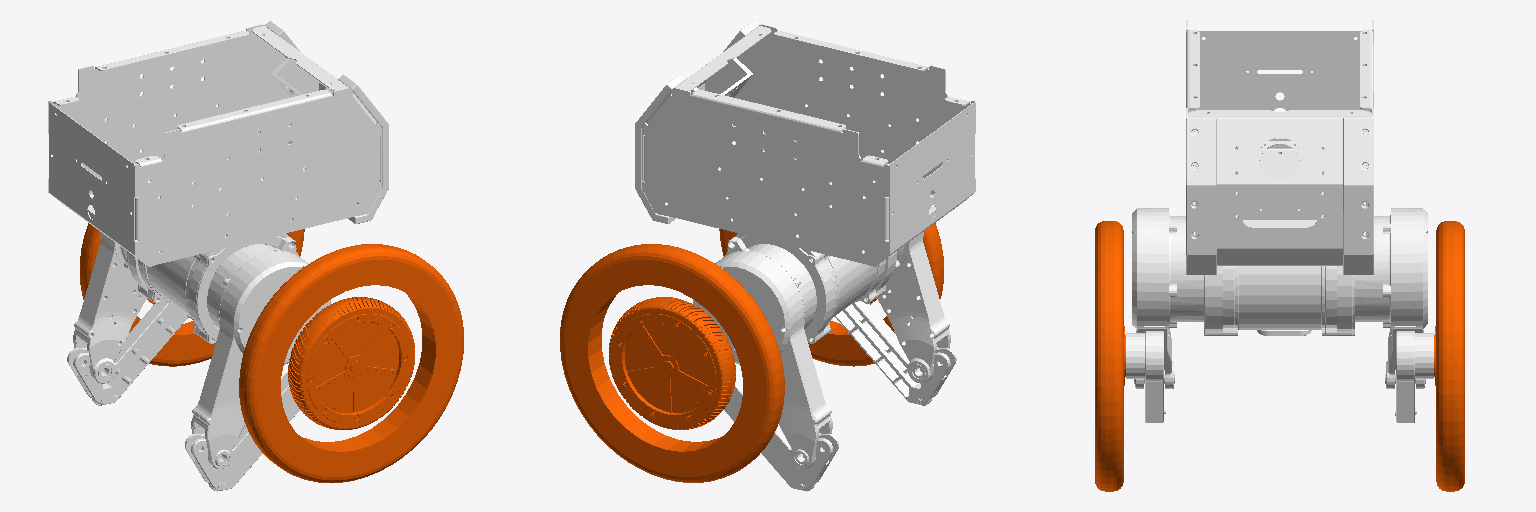
URDF robot description (diablo_plus_pro):
<?xml version="1.0" encoding="utf-8"?>
<!-- This URDF was automatically created by SolidWorks to URDF Exporter! Originally created by Stephen Brawner (brawner@gmail.com) 
     Commit Version: 1.6.0-4-g7f85cfe  Build Version: 1.6.7995.38578
     For more information, please see http://wiki.ros.org/sw_urdf_exporter -->
<robot
  name="diablo_plus_pro">
  <material name="black">
      <color rgba="0.0 0.0 0.0 1.0"/>
  </material>
  <material name="blue">
      <color rgba="0.0 0.0 0.8 1.0"/>
  </material>
  <material name="green">
      <color rgba="0.0 0.8 0.0 1.0"/>
  </material>
  <material name="grey">
      <color rgba="0.2 0.2 0.2 1.0"/>
  </material>
  <material name="silver">
      <color rgba="0.9137254901960784 0.9137254901960784 0.8470588235294118 1.0"/>
  </material>
  <material name="orange">
      <color rgba="1.0 0.4235294117647059 0.0392156862745098 1.0"/>
  </material>
  <material name="brown">
      <color rgba="0.8705882352941177 0.8117647058823529 0.7647058823529411 1.0"/>
  </material>
  <material name="red">
      <color rgba="0.8 0.0 0.0 1.0"/>
  </material>
  <material name="white">
      <color rgba="1.0 1.0 1.0 1.0"/>
  </material>
  <link
    name="base_link">
    <inertial>
      <origin
        xyz="0.02817 -0.0049865 0.16853"
        rpy="0 0 0" />
      <mass
        value="11.4726" />
      <inertia
        ixx="0.8371974"
        ixy="-0.06254957"
        ixz="-0.01618499"
        iyy="0.8708397"
        iyz="0.003006719"
        izz="0.3425067" />
    </inertial>
    <visual>
      <origin
        xyz="0 0 0"
        rpy="0 0 0" />
      <geometry>
        <mesh
          filename="../meshes/base_link.STL" />
      </geometry>
      <material
        name="">
        <color
          rgba="1 1 1 1" />
      </material>
    </visual>
    <collision>
      <origin
        xyz="0 0 0"
        rpy="0 0 0" />
      <geometry>
        <mesh
          filename="../meshes/base_link.STL" />
      </geometry>
    </collision>
  </link>
  <link
    name="left_hip_link">
    <inertial>
      <origin
        xyz="-0.02147 0.083955 -0.036946"
        rpy="0 0 0" />
      <mass
        value="2.0" />
      <inertia
        ixx="0.01137421"
        ixy="0.00070511460"
        ixz="0.00124554"
        iyy="0.0082006541"
        iyz="0.0029798900"
        izz="0.0060506903" />
    </inertial>
    <visual>
      <origin
        xyz="0 0 0"
        rpy="0 0 0" />
      <geometry>
        <mesh
          filename="../meshes/left_hip_link.STL" />
      </geometry>
      <material
        name="">
        <color
          rgba="1 1 1 1" />
      </material>
    </visual>
    <collision>
      <origin
        xyz="0 0 0"
        rpy="0 0 0" />
      <geometry>
        <mesh
          filename="../meshes/left_hip_link.STL" />
      </geometry>
    </collision>
  </link>
  <joint
    name="left_hip_joint"
    type="revolute">
    <origin
      xyz="0 0.0428 0.075997"
      rpy="0 0 0" />
    <parent
      link="base_link" />
    <child
      link="left_hip_link" />
    <axis
      xyz="0 1 0" />
    <limit
      lower="-1.0"
      upper="1.2"
      effort="80"
      velocity="15" />
  </joint>
  <link
    name="left_knee_link">
    <inertial>
      <origin
        xyz="0.091371 -0.0059746 0.042483"
        rpy="0 0 0" />
      <mass
        value="2.0" />
      <inertia
        ixx="0.0044665319"
        ixy="1.2345077E-05"
        ixz="-0.00023975799"
        iyy="0.0046256777"
        iyz="-0.00022848392"
        izz="0.0002702575" />
    </inertial>
    <visual>
      <origin
        xyz="0 0 0"
        rpy="0 0 0" />
      <geometry>
        <mesh
          filename="../meshes/left_knee_link.STL" />
      </geometry>
      <material
        name="">
        <color
          rgba="1 1 1 1" />
      </material>
    </visual>
    <collision>
      <origin
        xyz="0 0 0"
        rpy="0 0 0" />
      <geometry>
        <mesh
          filename="../meshes/left_knee_link.STL" />
      </geometry>
    </collision>
  </link>
  <joint
    name="left_knee_joint"
    type="revolute">
    <origin
      xyz="-0.088027 0.11148 -0.17958"
      rpy="0 0 0" />
    <parent
      link="left_hip_link" />
    <child
      link="left_knee_link" />
    <axis
      xyz="0 1 0" />
    <limit 
      lower="0"
      upper="1.20"
      effort="80"
      velocity="15" />
  </joint>
  <link
    name="left_wheel_link">
    <inertial>
      <origin
        xyz="-2.0379E-06 0.019153 -4.2928E-07"
        rpy="0 0 0" />
      <mass
        value="2.0" />
      <inertia
        ixx="0.013847"
        ixy="-1.0562E-07"
        ixz="4.372E-10"
        iyy="0.027351"
        iyz="-3.2677E-08"
        izz="0.013847" />
    </inertial>
    <visual>
      <origin
        xyz="0 0 0"
        rpy="0 0 0" />
      <geometry>
        <mesh
          filename="../meshes/left_wheel_link.STL" />
      </geometry>
      <material name="orange">
          <color rgba="1.0 0.4235294117647059 0.0392156862745098 1.0"/>
      </material>
    </visual>
    <collision>
      <origin
        xyz="0 0.02 0"
        rpy="1.5707963 0 0" />
      <geometry>
        <cylinder radius="0.16" length="0.035"/>
      </geometry>
    </collision>
  </link>
  <joint
    name="left_wheel_joint"
    type="revolute">
    <origin
      xyz="0.17064 0.02266 0.10432"
      rpy="0 0 0" />
    <parent
      link="left_knee_link" />
    <child
      link="left_wheel_link" />
    <axis
      xyz="0 1 0" />
    <limit
      effort="20"
      velocity="30" />
  </joint>
  <link
    name="right_hip_link">
    <inertial>
      <origin
        xyz="-0.02147 -0.083955 -0.036946"
        rpy="0 0 0" />
      <mass
        value="2.0" />
      <inertia
        ixx="0.01137421"
        ixy="0.00070511460"
        ixz="0.00124554"
        iyy="0.0082006541"
        iyz="0.0029798900"
        izz="0.0060506903" />
    </inertial>
    <visual>
      <origin
        xyz="0 0 0"
        rpy="0 0 0" />
      <geometry>
        <mesh
          filename="../meshes/right_hip_link.STL" />
      </geometry>
      <material
        name="">
        <color
          rgba="1 1 1 1" />
      </material>
    </visual>
    <collision>
      <origin
        xyz="0 0 0"
        rpy="0 0 0" />
      <geometry>
        <mesh
          filename="../meshes/right_hip_link.STL" />
      </geometry>
    </collision>
  </link>
  <joint
    name="right_hip_joint"
    type="revolute">
    <origin
      xyz="0 -0.0528 0.075997"
      rpy="0 0 0" />
    <parent
      link="base_link" />
    <child
      link="right_hip_link" />
    <axis
      xyz="0 1 0" />
    <limit
      lower="-1.0"
      upper="1.2"
      effort="80"
      velocity="15" />  
  </joint>
  <link
    name="right_knee_link">
    <inertial>
      <origin
        xyz="0.091173 -0.0018038 0.042402"
        rpy="0 0 0" />
      <mass
        value="2.0" />
      <inertia
        ixx="0.0044665319"
        ixy="1.2345077E-05"
        ixz="-0.00023975799"
        iyy="0.0046256777"
        iyz="-0.00022848392"
        izz="0.0002702575" />
    </inertial>
    <visual>
      <origin
        xyz="0 0 0"
        rpy="0 0 0" />
      <geometry>
        <mesh
          filename="../meshes/right_knee_link.STL" />
      </geometry>
      <material
        name="">
        <color
          rgba="1 1 1 1" />
      </material>
    </visual>
    <collision>
      <origin
        xyz="0 0 0"
        rpy="0 0 0" />
      <geometry>
        <mesh
          filename="../meshes/right_knee_link.STL" />
      </geometry>
    </collision>
  </link>
  <joint
    name="right_knee_joint"
    type="revolute">
    <origin
      xyz="-0.088029 -0.10364 -0.17958"
      rpy="0 0 0" />
    <parent
      link="right_hip_link" />
    <child
      link="right_knee_link" />
    <axis
      xyz="0 1 0" />
    <limit
      lower="0"
      upper="1.20"
      effort="80"
      velocity="15" />
  </joint>
  <link
    name="right_wheel_link">
    <inertial>
      <origin
        xyz="7.6456E-08 -0.019153 -2.0799E-06"
        rpy="0 0 0" />
      <mass
        value="2.00" />
      <inertia
        ixx="0.013847"
        ixy="4.8112E-09"
        ixz="-1.9773E-09"
        iyy="0.027351"
        iyz="1.0933E-07"
        izz="0.013847" />
    </inertial>
    <visual>
      <origin
        xyz="0 0 0"
        rpy="0 0 0" />
      <geometry>
        <mesh
          filename="../meshes/right_wheel_link.STL" />
      </geometry>
      <material name="orange">
          <color rgba="1.0 0.4235294117647059 0.0392156862745098 1.0"/>
      </material>
    </visual>
    <collision>
      <origin
        xyz="0 -0.02 0"
        rpy="1.5707963 0 0" />
      <geometry>
        <cylinder radius="0.16" length="0.035"/>
      </geometry>
    </collision>
  </link>
  <joint
    name="right_wheel_joint"
    type="revolute">
    <origin
      xyz="0.17064 -0.03046 0.10432"
      rpy="0 0 0" />
    <parent
      link="right_knee_link" />
    <child
      link="right_wheel_link" />
    <axis
      xyz="0 1 0" />
    <limit
      effort="20"
      velocity="30" />
  </joint>
</robot>

--- Render facts (derived) ---
3 views of the same robot in one strip: view 1: azimuth 30°, elevation 25°; view 2: azimuth 150°, elevation 25°; view 3: azimuth 270°, elevation 25° (orthographic).
Robot: diablo_plus_pro — 7 links, 6 joints (6 revolute); root link base_link; default pose: every joint at zero.
Visible links, largest first — view 1: base_link, right_wheel_link, right_hip_link, left_hip_link, left_knee_link, left_wheel_link, right_knee_link; view 2: base_link, left_wheel_link, left_hip_link, right_hip_link, right_knee_link, right_wheel_link, left_knee_link; view 3: base_link, left_hip_link, right_hip_link, right_wheel_link, left_wheel_link, left_knee_link, right_knee_link.
Link boxes in pixels (x1=…): base_link: x1=48, y1=21, x2=388, y2=343; right_wheel_link: x1=239, y1=244, x2=463, y2=482; right_hip_link: x1=191, y1=244, x2=330, y2=468; left_hip_link: x1=73, y1=232, x2=146, y2=383; left_knee_link: x1=67, y1=301, x2=188, y2=405; left_wheel_link: x1=80, y1=223, x2=304, y2=366; right_knee_link: x1=185, y1=372, x2=299, y2=491; base_link: x1=635, y1=21, x2=975, y2=343; left_wheel_link: x1=560, y1=244, x2=784, y2=482; left_hip_link: x1=693, y1=244, x2=832, y2=468; right_hip_link: x1=877, y1=232, x2=950, y2=383; right_knee_link: x1=835, y1=301, x2=956, y2=405; right_wheel_link: x1=719, y1=223, x2=943, y2=366; left_knee_link: x1=724, y1=372, x2=838, y2=491; base_link: x1=1186, y1=20, x2=1373, y2=335; left_hip_link: x1=1355, y1=208, x2=1427, y2=388; right_hip_link: x1=1132, y1=208, x2=1203, y2=388; right_wheel_link: x1=1095, y1=221, x2=1125, y2=491; left_wheel_link: x1=1434, y1=221, x2=1464, y2=491; left_knee_link: x1=1395, y1=331, x2=1433, y2=422; right_knee_link: x1=1126, y1=331, x2=1165, y2=422.
Bounding box of the posed robot: 0.4236 × 0.4384 × 0.4989 m (x, y, z).
Meshes: 7 distinct files referenced, 7 mesh visuals loaded (7 binary STL).
